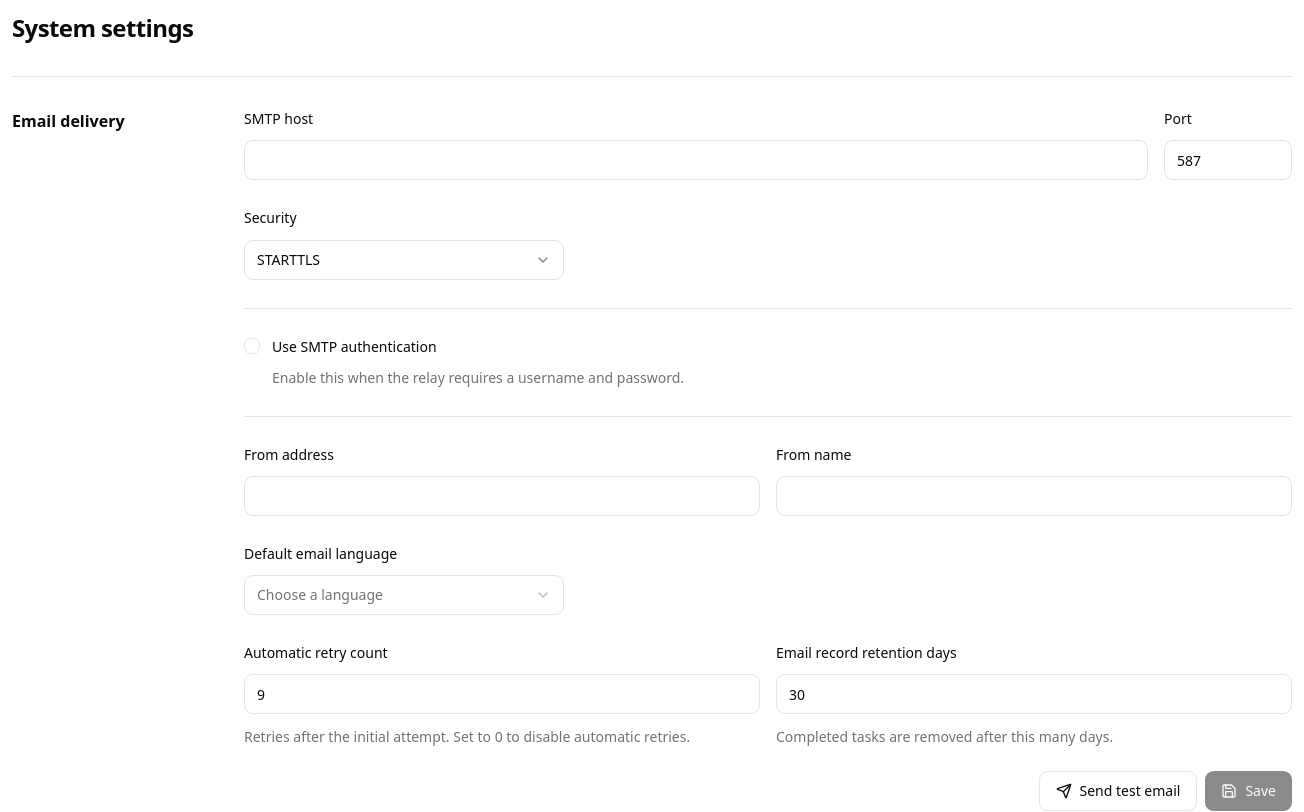
Test: email settings page › keeps the draft on a conflict and requires a browser refresh
This screenshot has width=1304, height=812.
Expected: the heading "System settings" is shown, [12,11,193,44]
Step 1. Click the dropdown named "Default email language" → (320, 594), box [244,575,564,615]
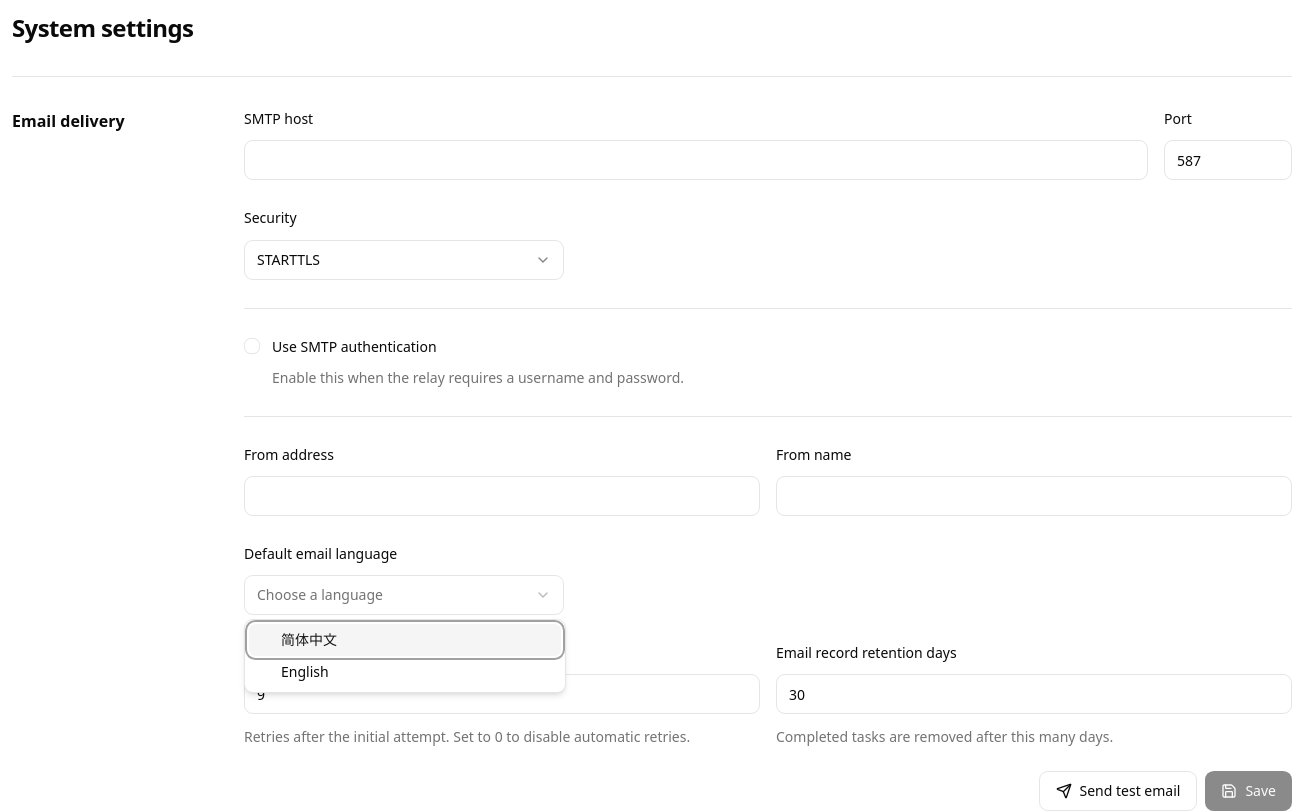
Step 2. Click the option "English" → (305, 672), box [281,662,329,681]
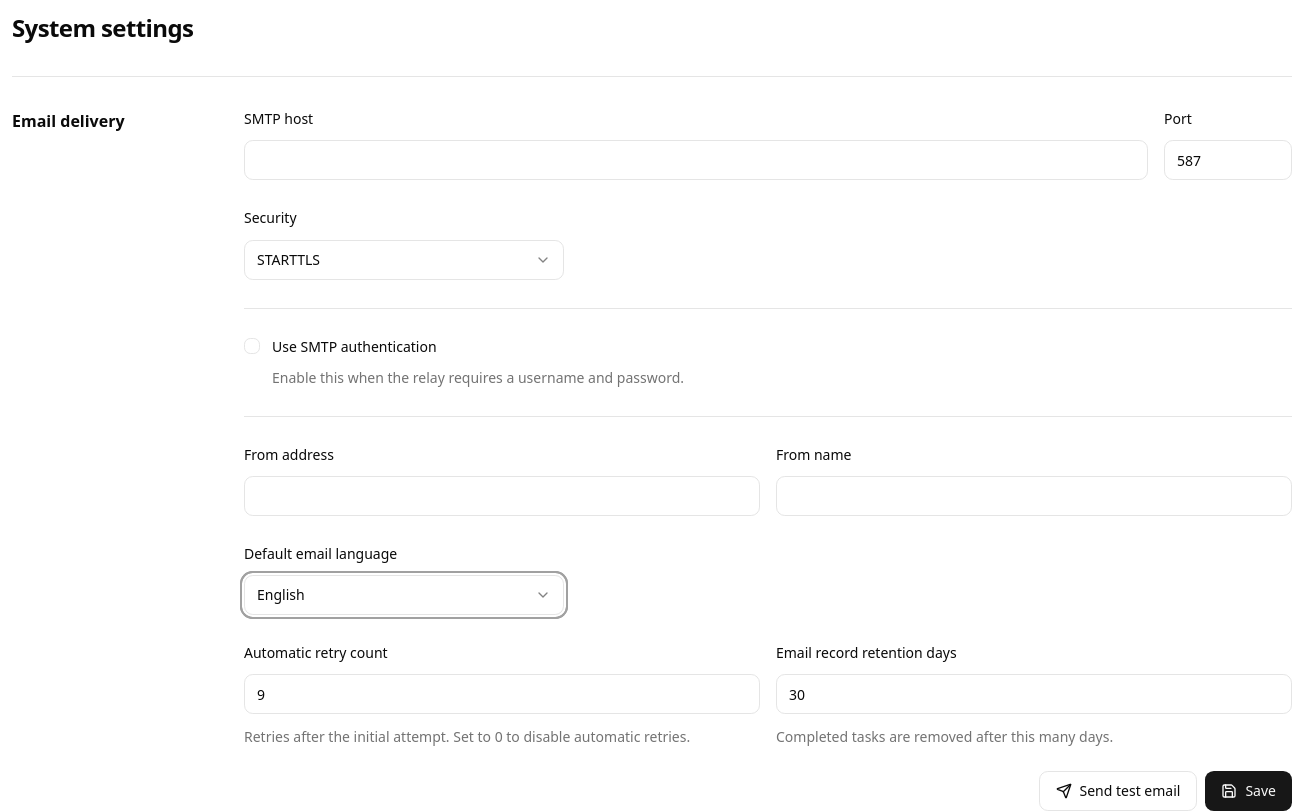
Step 3. Click the button "Save" → (1249, 791), box [1205,771,1292,811]
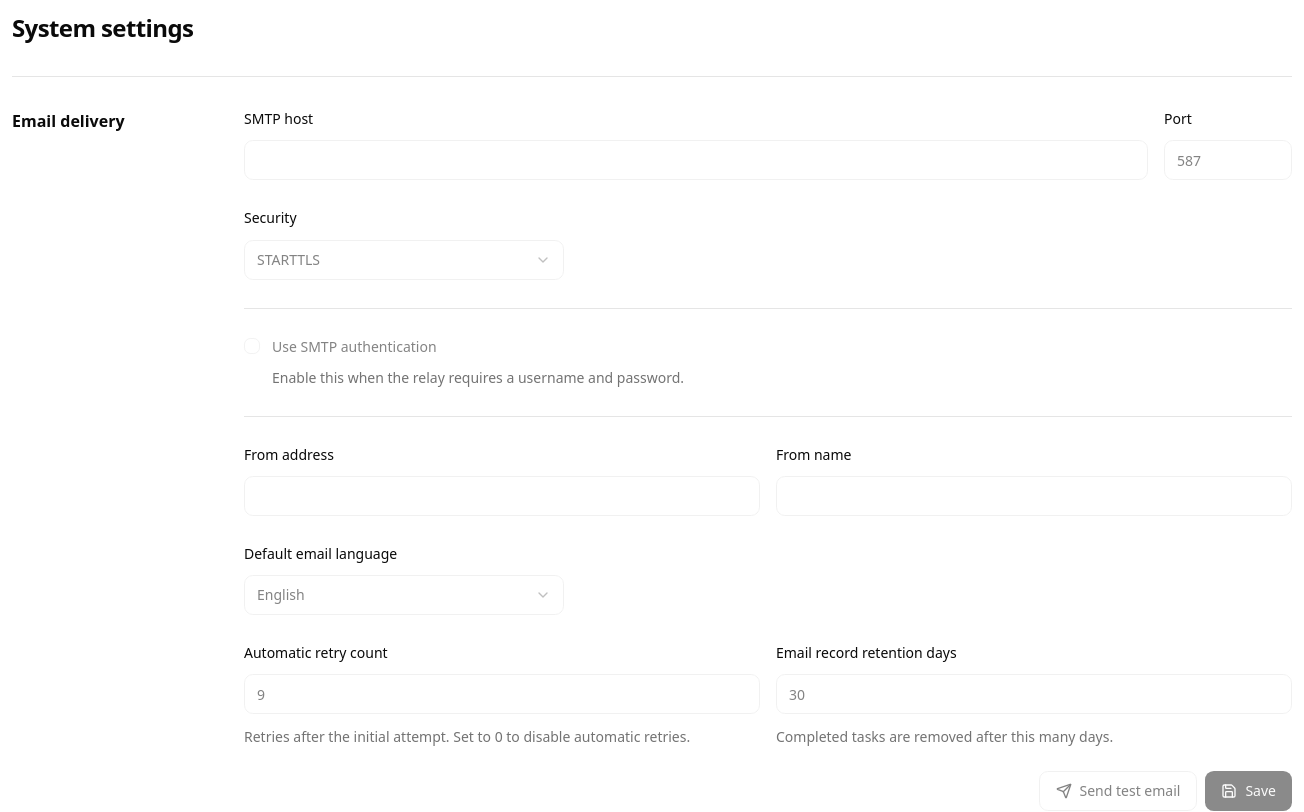
Expected: the field labelled "SMTP host" is empty, [244,140,1148,180]
Now the button "Save" is disabled, box [1205,771,1292,811]
